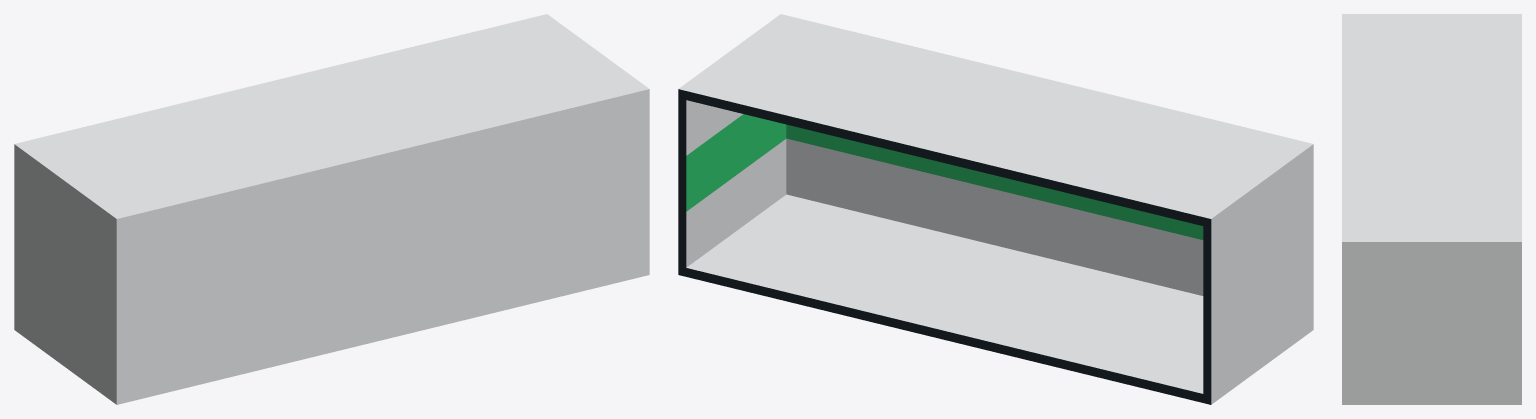
File: Room_large_001.fbx
3 renders of one model, left to right at view 1: azimuth 30°, elevation 25°; view 2: azimuth 150°, elevation 25°; view 3: azimuth 270°, elevation 25°, orthographic. The views are drawn at different scales.
Parts seen in each view (by area): view 1: Room_large_001.001; view 2: Room_large_001.001; view 3: Room_large_001.001.
Part boxes in pixels (x1,y1,x2,y2): Room_large_001.001: (14, 14, 649, 404); Room_large_001.001: (678, 14, 1313, 404); Room_large_001.001: (1342, 14, 1521, 404).
Size of the model in its own units: 1200 by 400 by 400.
